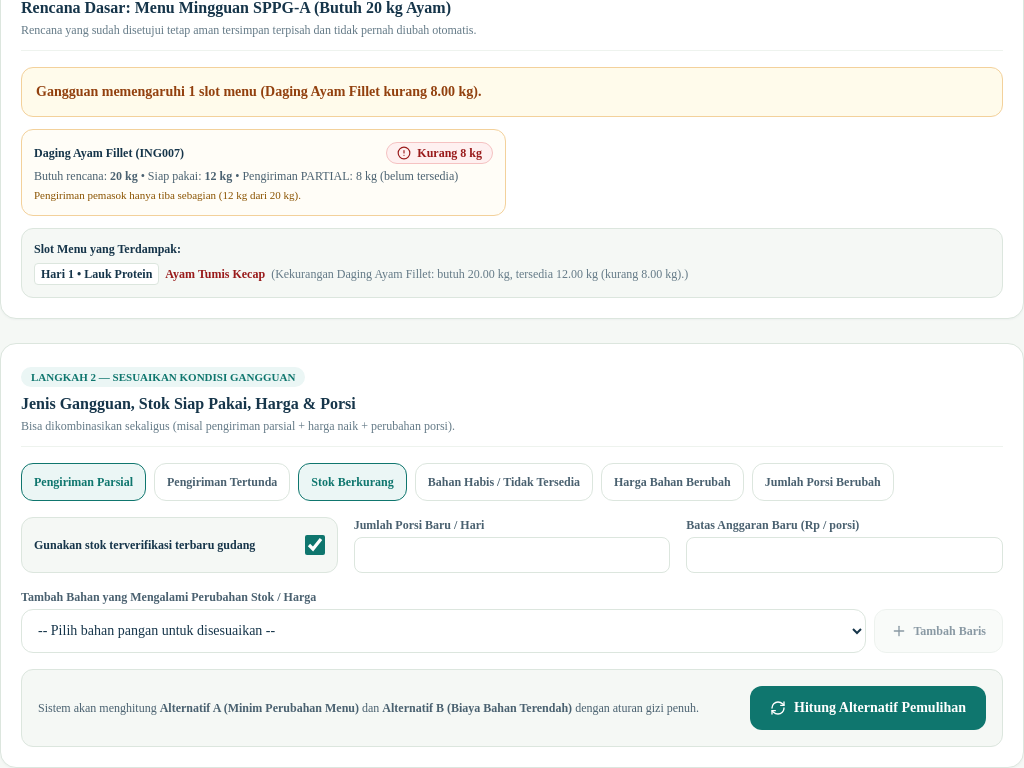
Test case: Sprint 3B — Procurement Recovery UI Contracts › collapses duplicate Alternative A/B cards when min_disruption_vs_min_cost_identical is true
This screenshot has width=1024, height=768.
(page scrolled)
Click the button with test id "btn-compute-recovery" at (868, 708), box [750,686,986,730]
(page scrolled)
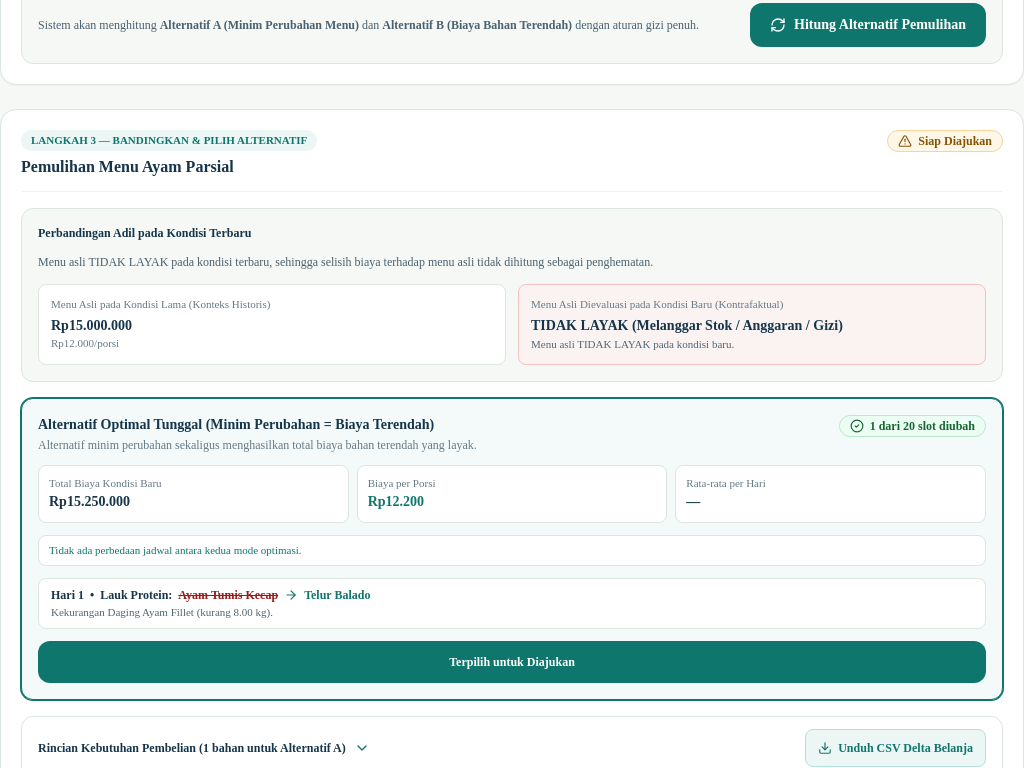
Check: the heading "Alternatif Optimal Tunggal" is shown, box [38,417,434,432]
